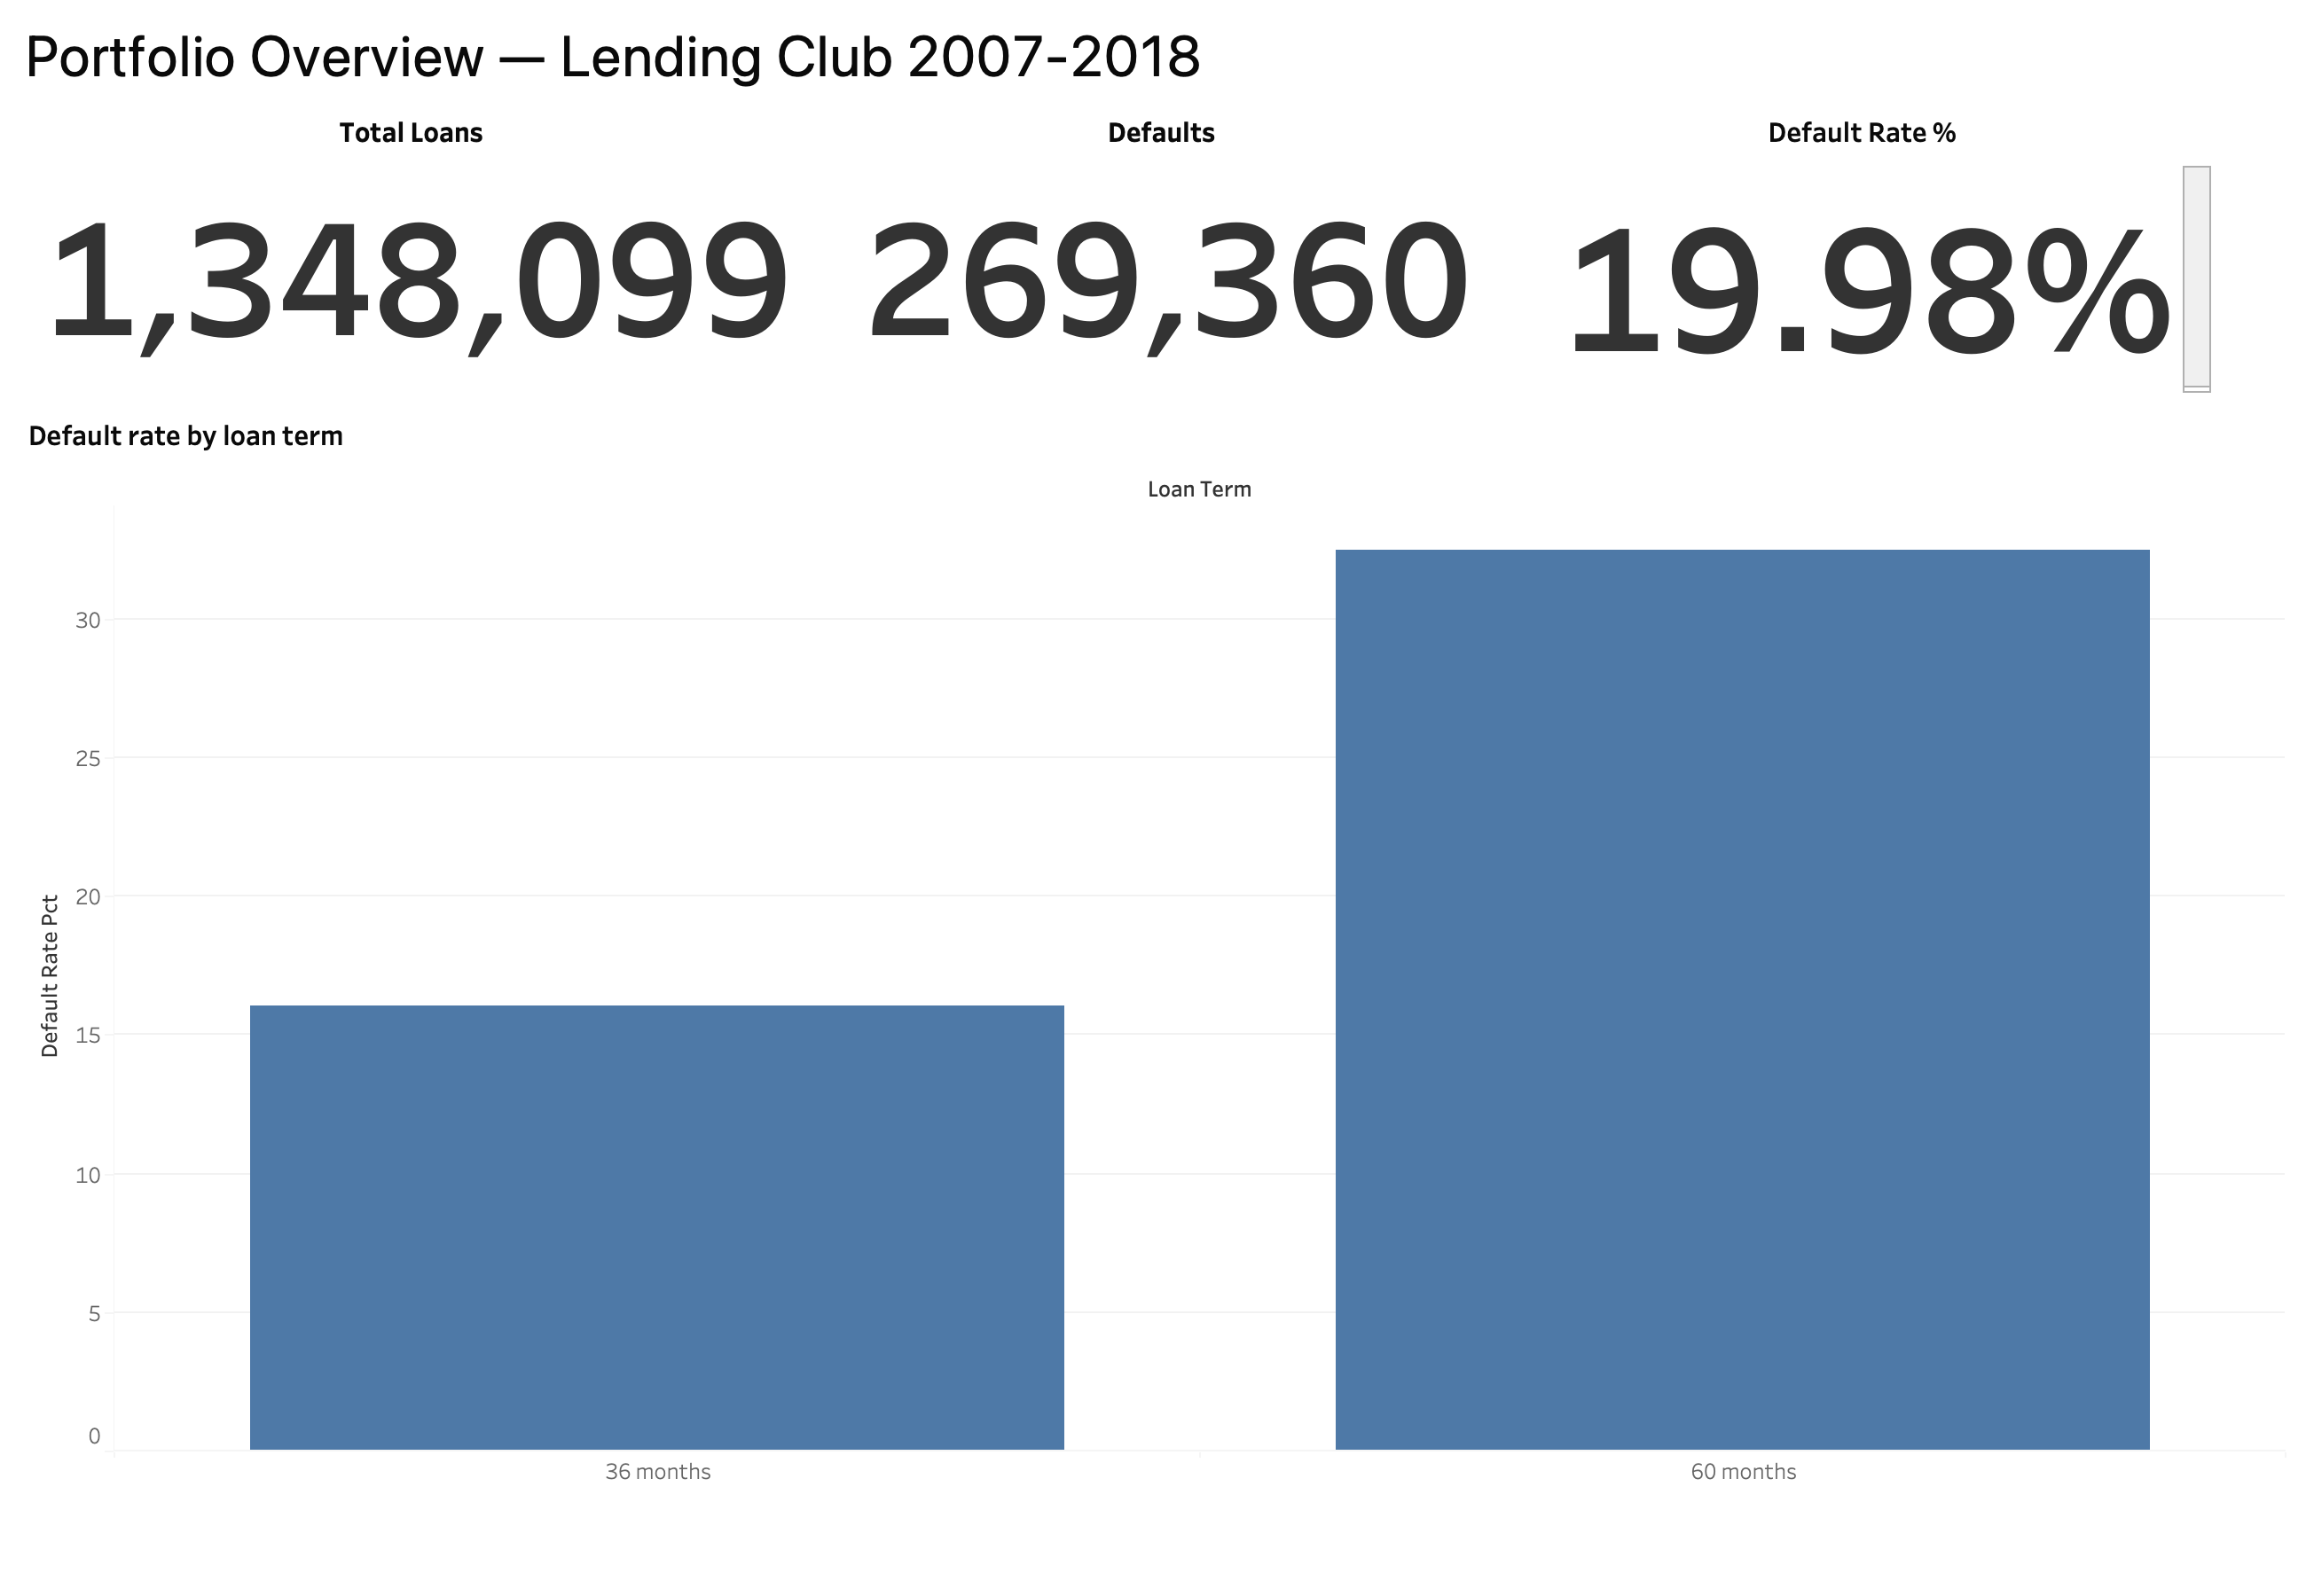

Layout of this report page (visuals, bound fields, positions):
{"tool":"tableau","page":{"name":"1. Portfolio Overview","canvas":[1300,900],"ordinal":0},"visuals":[{"type":"title","box":[8,8,1284,46]},{"type":"worksheet","title":"KPI - Total Loans","mark":"Automatic","box":[8,54,463,171]},{"type":"worksheet","title":"KPI - Defaults","mark":"Automatic","box":[471,54,395,171]},{"type":"worksheet","title":"KPI - Default Rate","mark":"Automatic","box":[866,54,426,171]},{"type":"worksheet","title":"Default rate by term","mark":"Automatic","rows":["default_rate_pct"],"cols":["loan_term"],"box":[8,225,1284,667]}]}

Visuals, with their boxes in screenshot pixels (x1, y1, x2, y2), scaled from the page's 1300x900 canvas onto the 2306x1596 screenshot:
title: (x1=14, y1=14, x2=2292, y2=96)
"KPI - Total Loans" worksheet: (x1=14, y1=96, x2=835, y2=399)
"KPI - Defaults" worksheet: (x1=835, y1=96, x2=1536, y2=399)
"KPI - Default Rate" worksheet: (x1=1536, y1=96, x2=2292, y2=399)
"Default rate by term" worksheet: (x1=14, y1=399, x2=2292, y2=1582)
